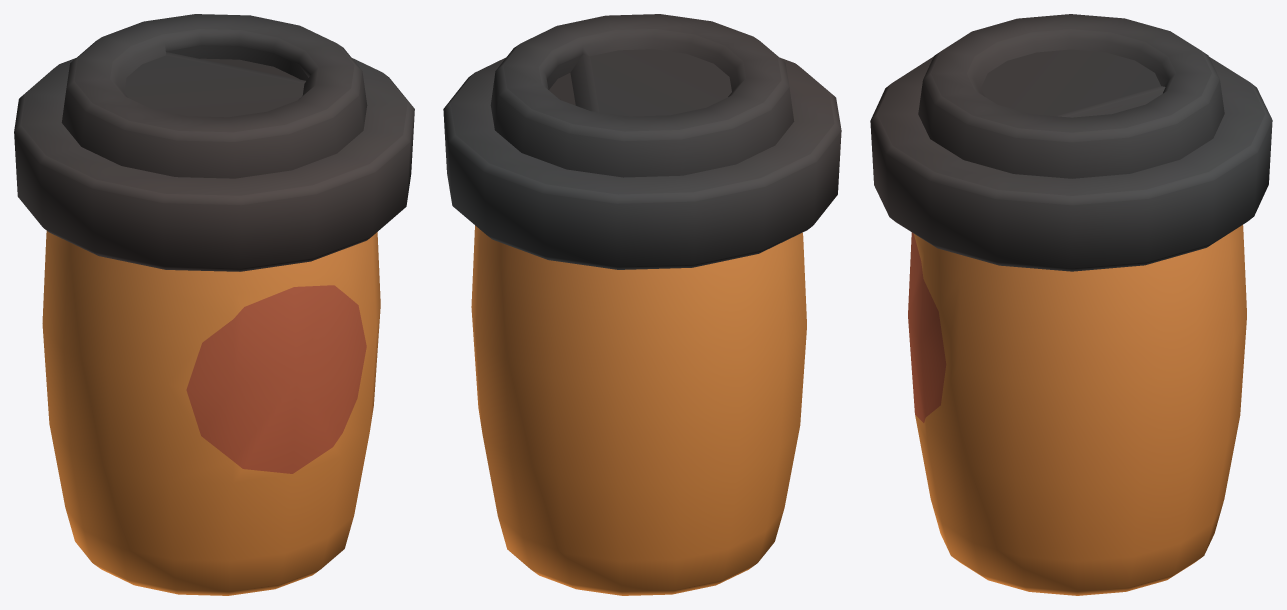
The model's file is coffee_004.fbx.
3 views of the same model, side by side, from view 1: azimuth 30°, elevation 25°; view 2: azimuth 150°, elevation 25°; view 3: azimuth 270°, elevation 25° (orthographic).
Parts seen in each view (by area): view 1: coffee_004; view 2: coffee_004; view 3: coffee_004.
Boxes of the visible parts, left/top/right/bottom form: coffee_004: left=14, top=14, right=414, bottom=595; coffee_004: left=443, top=14, right=841, bottom=595; coffee_004: left=870, top=14, right=1272, bottom=595.
Bounding box in the file's own units: 11.63 × 11.63 × 14.97.
